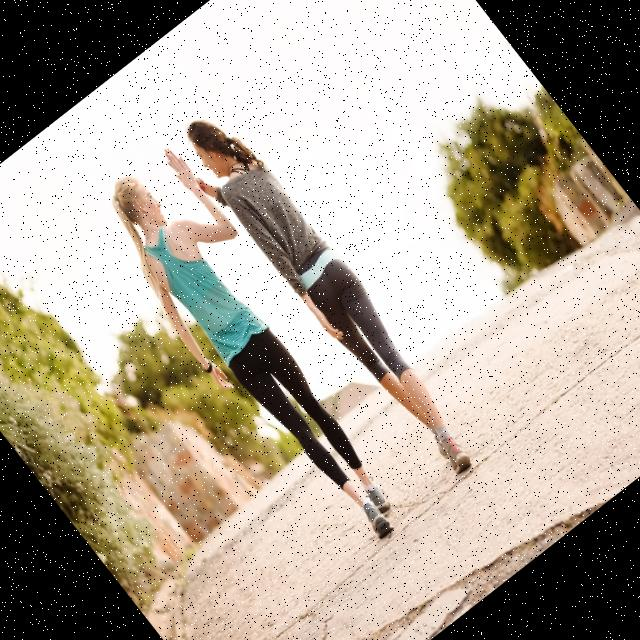Person: (79, 140, 441, 560), (157, 102, 492, 500)
